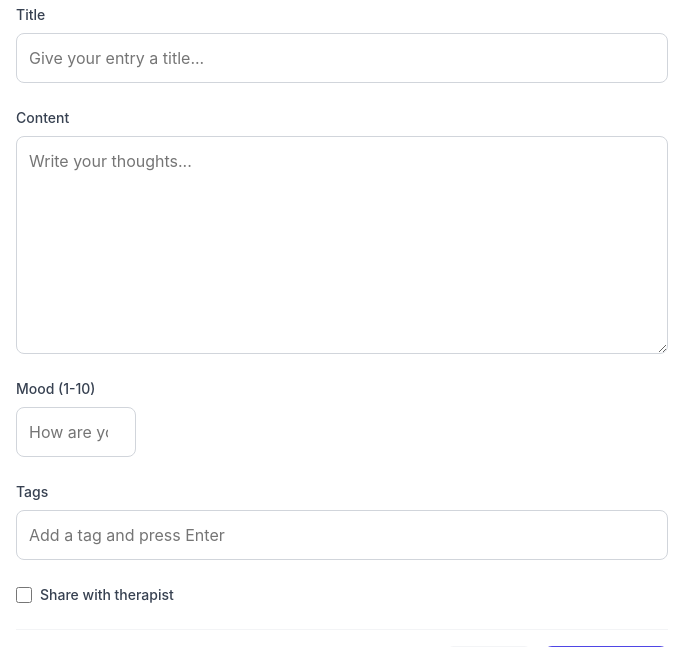
Test case: JournalFormView › adds and removes tags from the form
(page scrolled)
In the field with id "tag-input": (342, 535) left=16, top=510, right=668, bottom=560, type "gratitude"
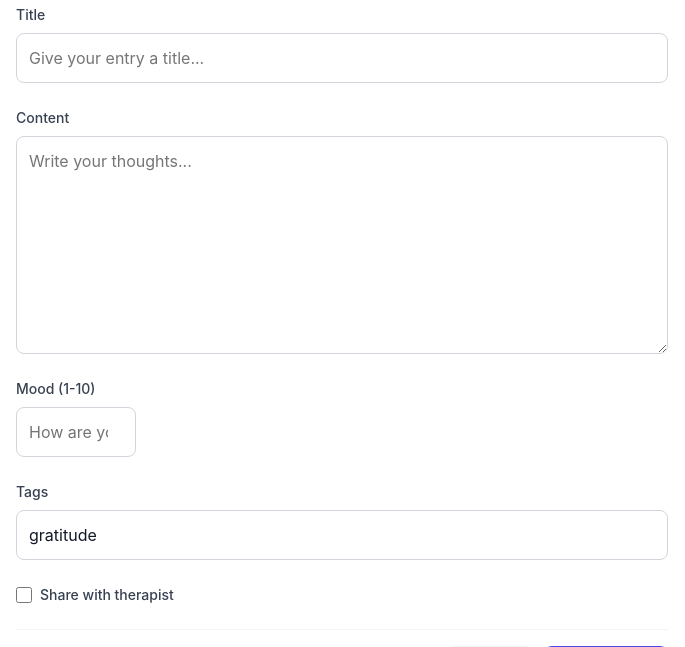
Press Enter in the field with id "tag-input", box left=16, top=510, right=668, bottom=560
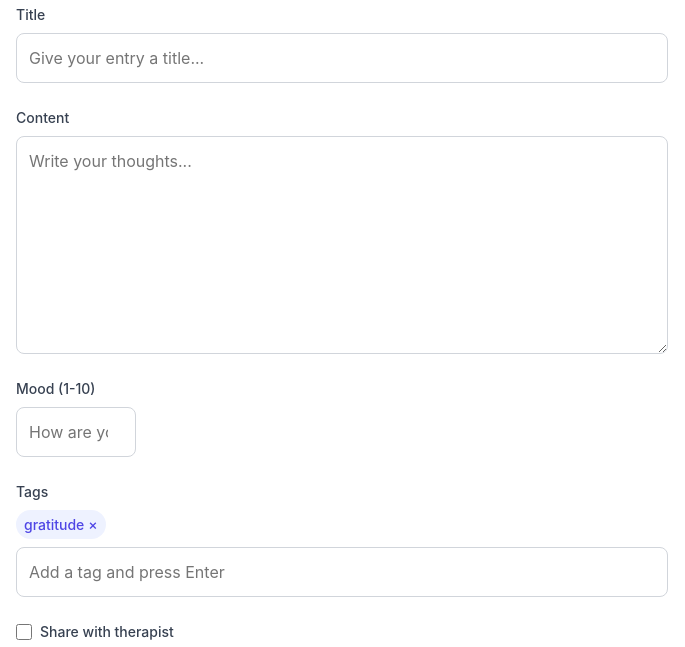
expect the text "gratitude" is shown: met, box left=24, top=516, right=84, bottom=533
Click the button with class "tag-remove": (93, 524) left=88, top=518, right=98, bottom=532
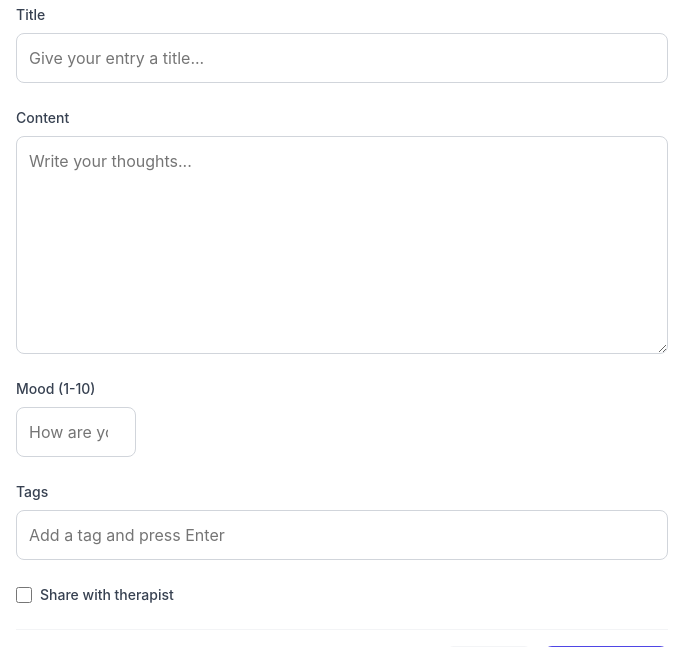
expect the text "gratitude" is gone: met
